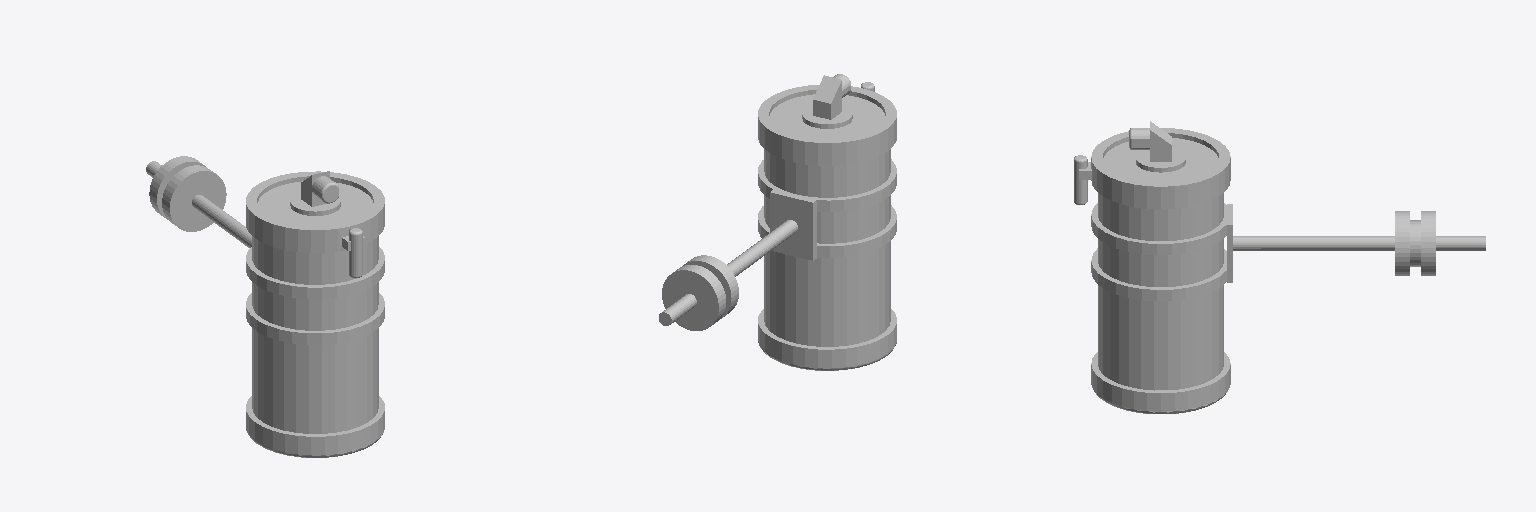
The model's file is SchmidtCassegrain.obj.
3 views of the same model, side by side, from view 1: azimuth 30°, elevation 25°; view 2: azimuth 150°, elevation 25°; view 3: azimuth 270°, elevation 25° (orthographic).
Parts seen in each view (by area): view 1: Body2.002, Body5, Body6; view 2: Body2.002, Body5, Body6; view 3: Body2.002, Body5, Body6.
Boxes of the visible parts, <box> form: Body2.002: <box>246,171,384,457</box>; Body5: <box>146,161,384,344</box>; Body6: <box>149,156,226,231</box>; Body2.002: <box>758,74,896,370</box>; Body5: <box>659,159,896,325</box>; Body6: <box>662,255,738,330</box>; Body2.002: <box>1074,121,1230,413</box>; Body5: <box>1091,203,1485,300</box>; Body6: <box>1395,211,1435,275</box>.
Bounding box in the file's own units: 275 × 570 × 815.